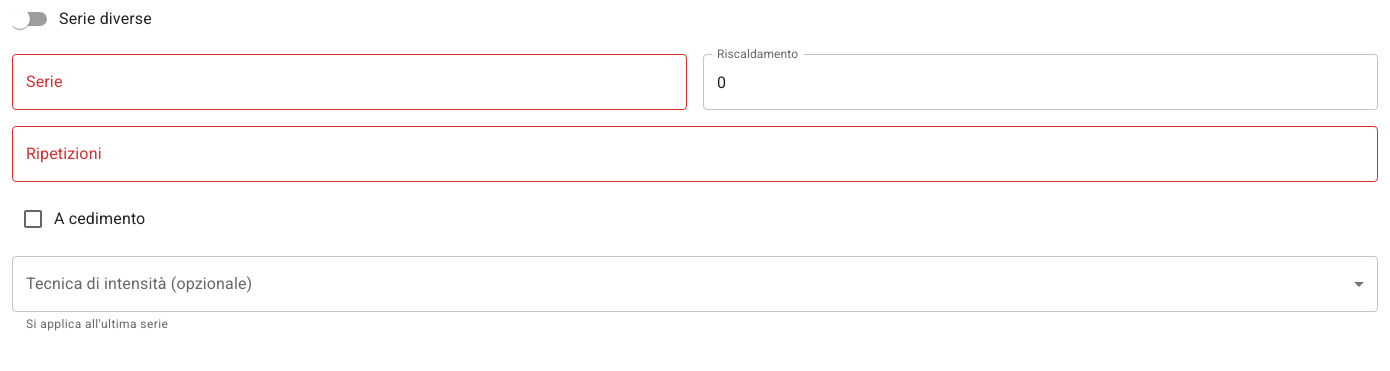
Test: PlannedSetsEditor · errori › ripetizioni non valide: messaggio sul campo e null
Type "3" into the field labelled "Serie" at coordinates (350, 82), box x1=12 y1=54 x2=687 y2=110
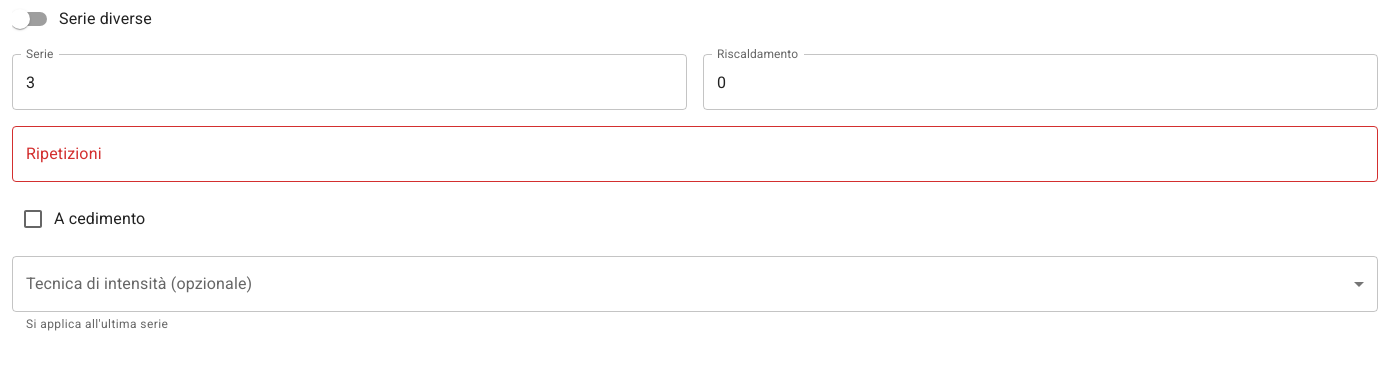
Type "10-8" into the field labelled "Ripetizioni" at coordinates (695, 154), box x1=12 y1=126 x2=1378 y2=182
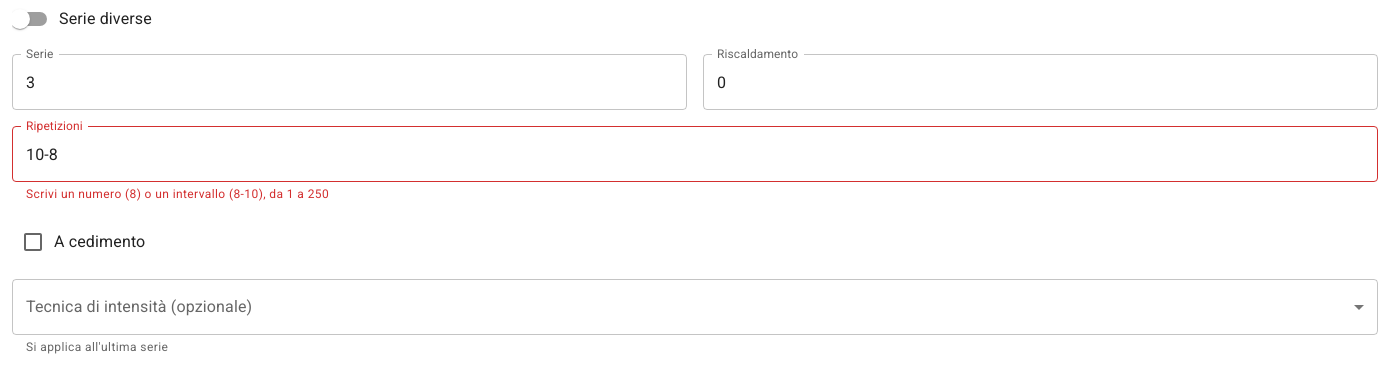
Check: the text "Scrivi un numero (8) o un intervallo (8-10), da 1 a 250" is shown, box x1=26 y1=187 x2=329 y2=201
